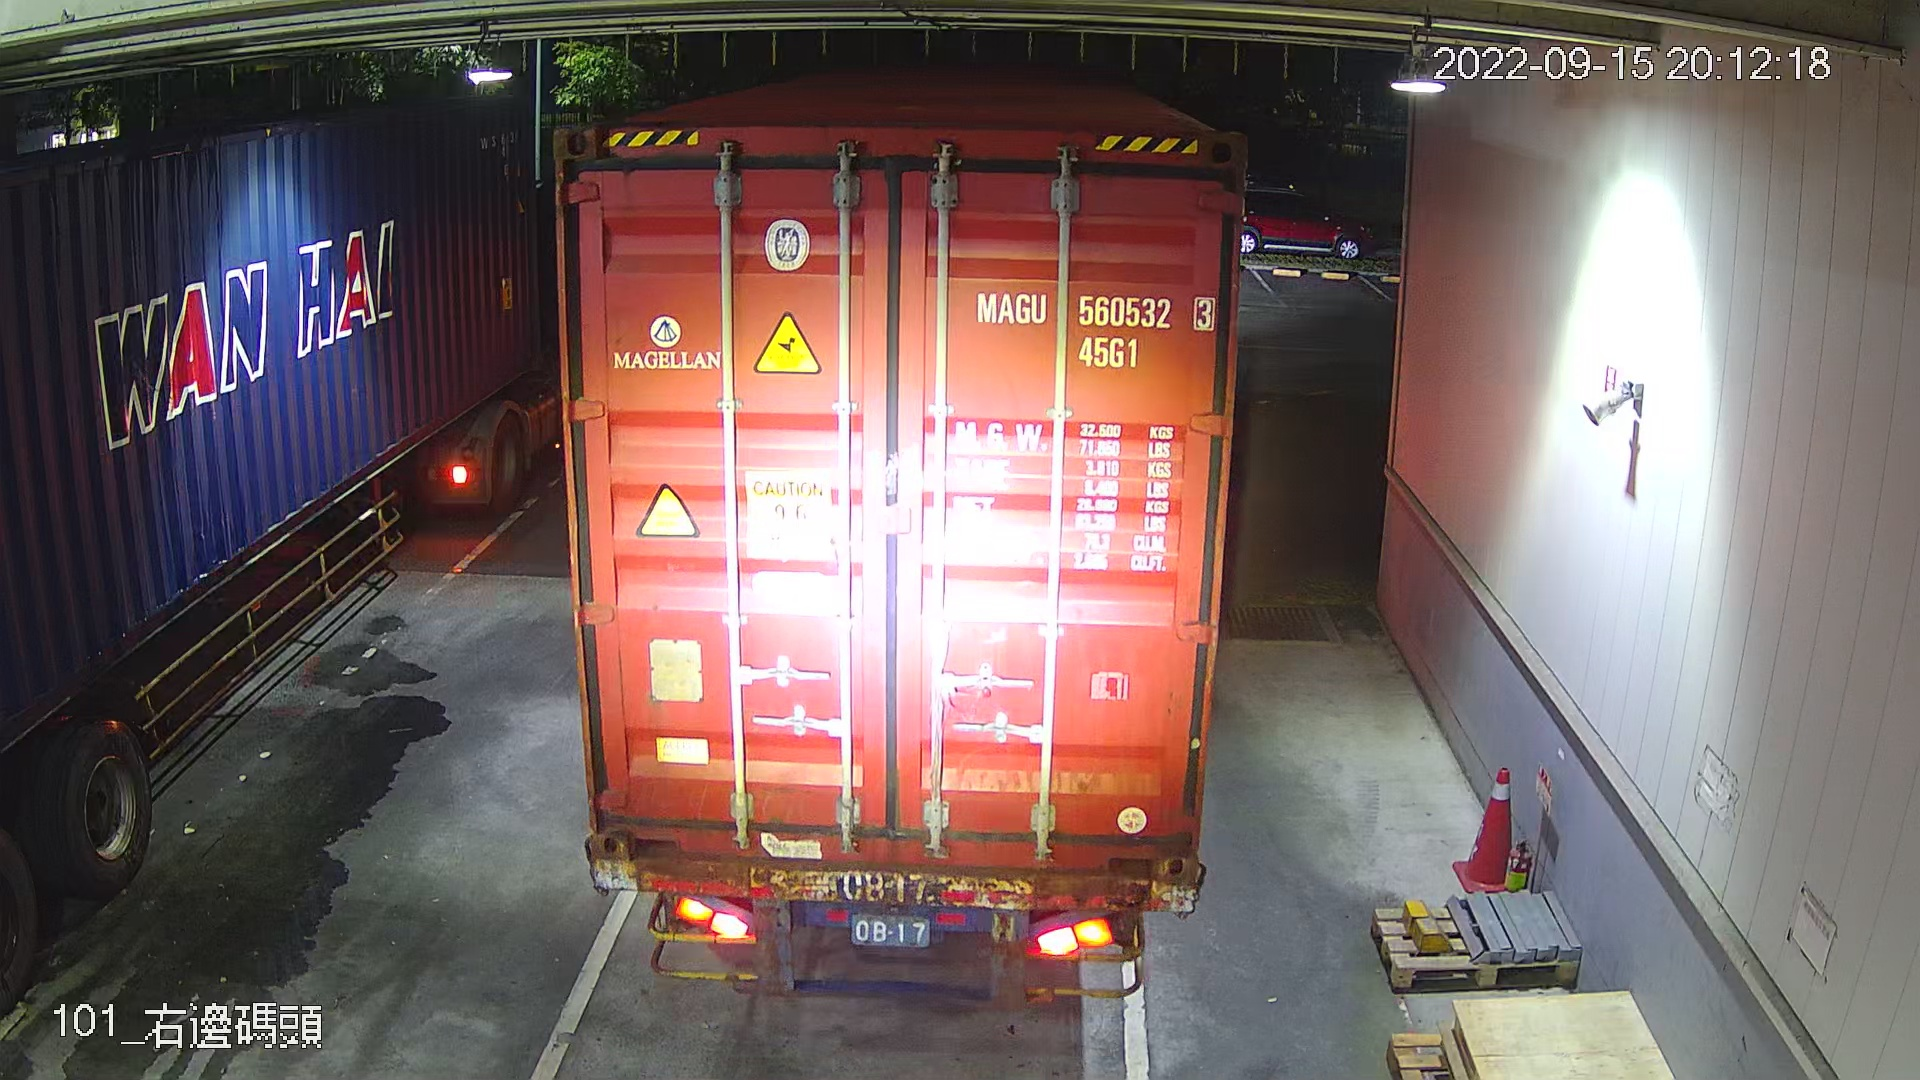container: (963, 282, 1226, 377)
